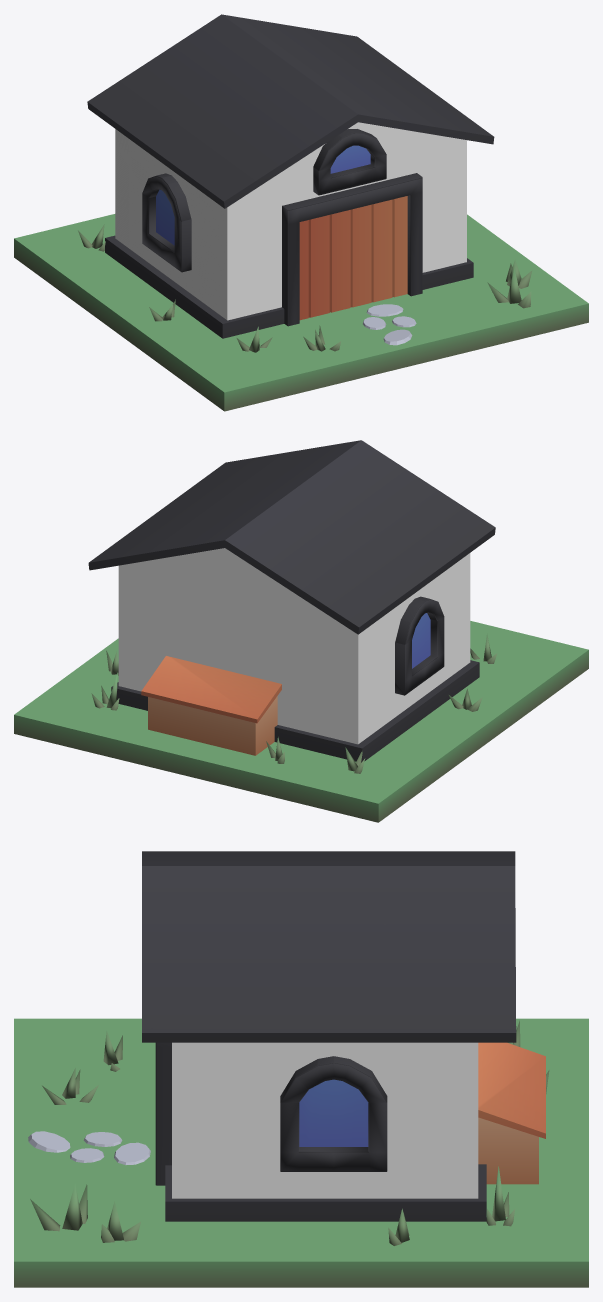
Rendered from workshop.glb.
The picture shows the model from 3 angles, top to bottom: view 1: azimuth 30°, elevation 25°; view 2: azimuth 150°, elevation 25°; view 3: azimuth 270°, elevation 25°; orthographic projection. The views are drawn at different scales.
Parts seen in each view (by area): view 1: workshop; view 2: workshop; view 3: workshop.
Boxes of the visible parts, box(x1,y1,x2,y2) form: workshop: box(14, 14, 588, 411); workshop: box(14, 440, 588, 822); workshop: box(14, 851, 588, 1287).
Size of the model in its own units: 1 by 0.5736 by 1.
1 material, 1 textured.
